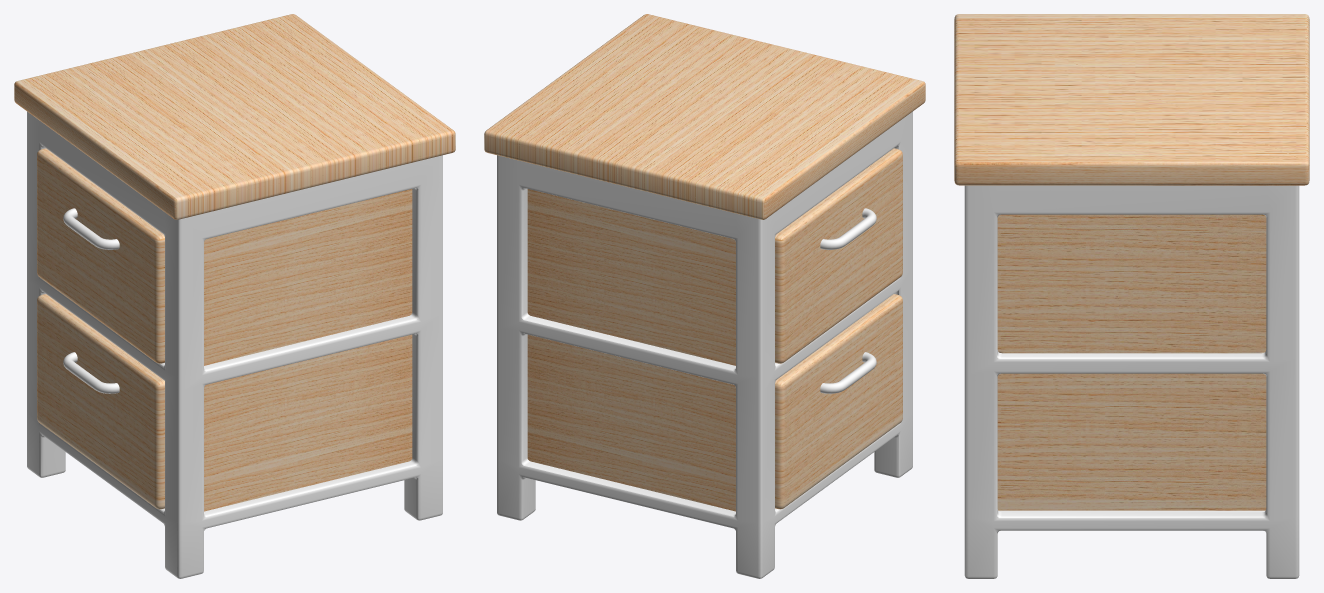
File: drawer_RF.fbx
The picture shows the model from 3 angles, left to right: view 1: azimuth 30°, elevation 25°; view 2: azimuth 150°, elevation 25°; view 3: azimuth 270°, elevation 25°; orthographic projection. The views are drawn at different scales.
Visible parts, largest first — view 1: Object001, Object002, Box001, Object003, Object005, Object004, Cylinder003, Cylinder002; view 2: Object001, Object002, Box001, Object003, Object005, Object004, Cylinder003, Cylinder002; view 3: Object003, Object002, Box001, Object005.
Boxes of the visible parts, x1,y1,x2,y2 form: Object001: (204, 189, 412, 511); Object002: (16, 14, 454, 219); Box001: (27, 111, 442, 578); Object003: (37, 152, 164, 508); Object005: (14, 15, 455, 219); Object004: (38, 148, 164, 509); Cylinder003: (63, 352, 119, 393); Cylinder002: (63, 208, 119, 249); Object001: (527, 189, 735, 511); Object002: (485, 14, 923, 219); Box001: (497, 111, 912, 578); Object003: (775, 152, 902, 508); Object005: (484, 15, 925, 219); Object004: (775, 148, 901, 509); Cylinder003: (820, 352, 876, 393); Cylinder002: (820, 208, 876, 249); Object003: (997, 214, 1266, 510); Object002: (954, 14, 1309, 182); Box001: (964, 185, 1299, 578); Object005: (954, 162, 1309, 185).
Bounding box in the file's own units: 40.71 × 50.71 × 38.69.
2 materials, 1 textured.
